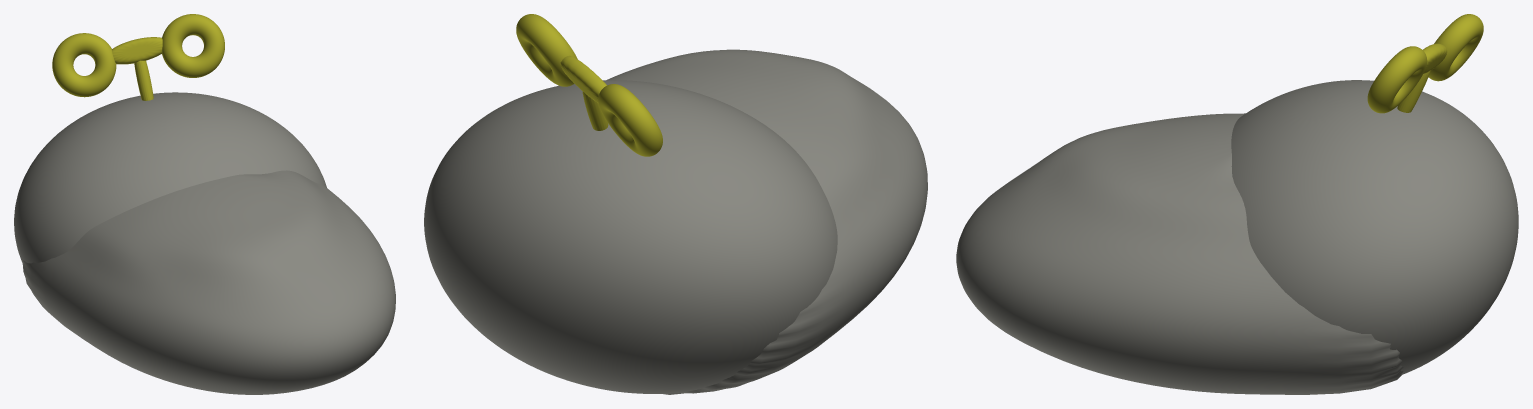
The model's file is toymouse.fbx.
The picture shows the model from 3 angles, left to right: view 1: azimuth 30°, elevation 25°; view 2: azimuth 150°, elevation 25°; view 3: azimuth 270°, elevation 25°; orthographic projection. The views are drawn at different scales.
Parts seen in each view (by area): view 1: pSphere3; view 2: pSphere3; view 3: pSphere3.
Boxes of the visible parts, bbox=[...] form: pSphere3: bbox=[14, 14, 395, 394]; pSphere3: bbox=[424, 14, 927, 394]; pSphere3: bbox=[956, 14, 1518, 394].
Size of the model in its own units: 9.77 by 9.11 by 13.55.
